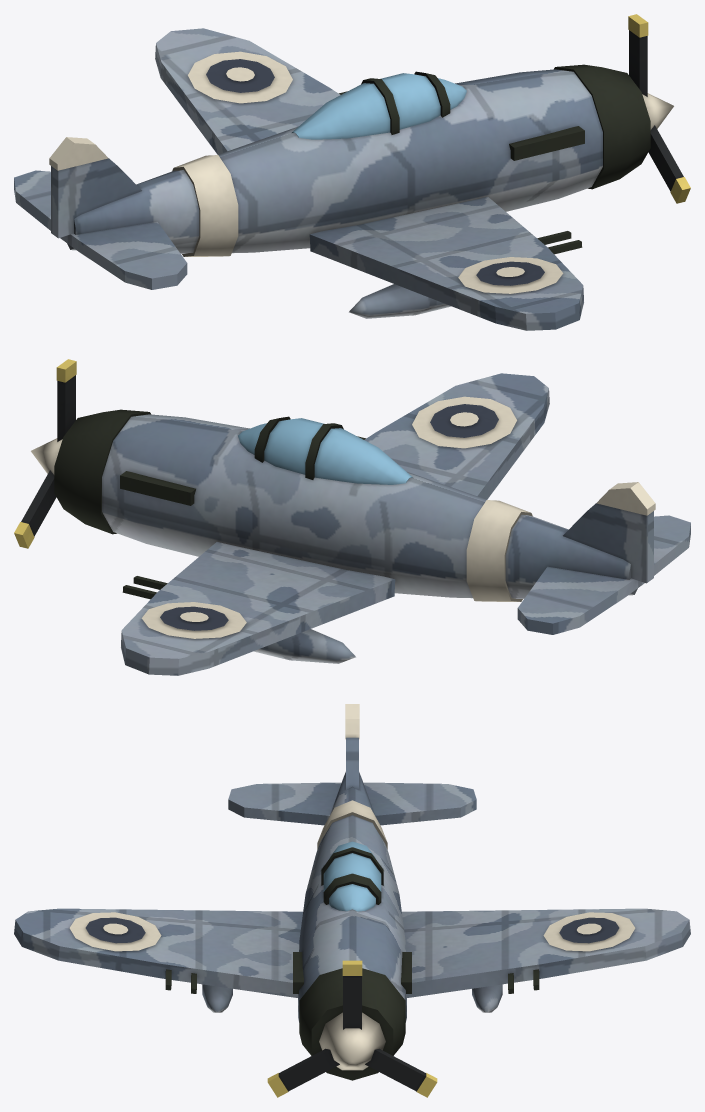
File: fighter.glb
3 views of the same model, one above another, from view 1: azimuth 30°, elevation 25°; view 2: azimuth 150°, elevation 25°; view 3: azimuth 270°, elevation 25° (orthographic). The views are drawn at different scales.
Parts seen in each view (by area): view 1: fuselage; view 2: fuselage; view 3: fuselage.
Part boxes in pixels (<box>): fuselage: <box>14,14,690,330</box>; fuselage: <box>14,359,690,675</box>; fuselage: <box>14,704,690,1097</box>.
Size of the model in its own units: 0.5131 by 0.1428 by 0.5527.
Materials: 1 (1 with a texture image).
